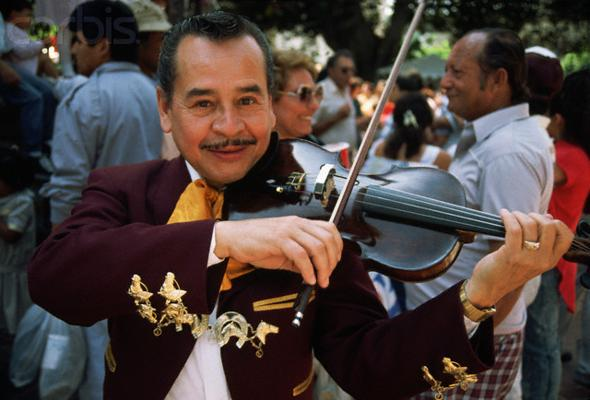person: (26, 13, 573, 400)
